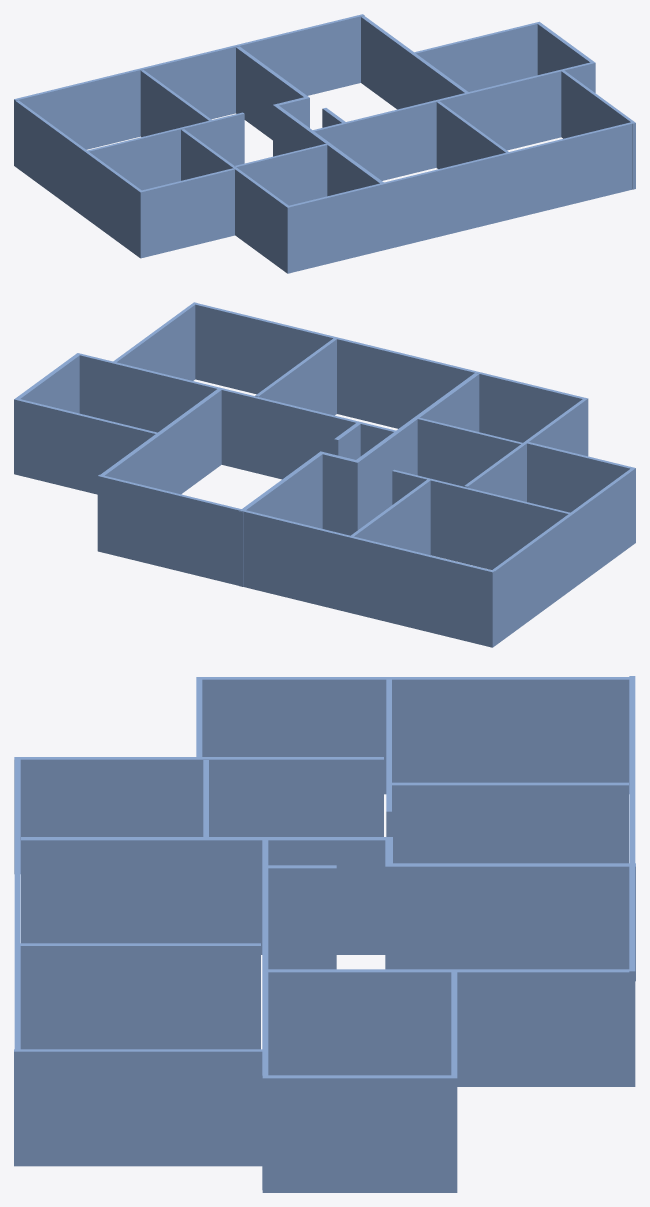
The model's file is Paredes2dopiso.fbx.
3 views of the same model, one above another, from view 1: azimuth 30°, elevation 25°; view 2: azimuth 150°, elevation 25°; view 3: azimuth 270°, elevation 25° (orthographic). The views are drawn at different scales.
Visible parts, largest first — view 1: Cube.045, Cube.032, Cube.034, Cube.035, Cube.042, Cube.044, Cube.040, Cube.029, Cube.030, Cube.038, Cube.041, Cube.039 (+6 smaller); view 2: Cube.032, Cube.045, Cube.034, Cube.035, Cube.044, Cube.029, Cube.030, Cube.042, Cube.038, Cube.040, Cube.041, Cube.031 (+7 smaller); view 3: Cube.035, Cube.030, Cube.039, Cube.040, Cube.033, Cube.041, Cube.028, Cube.026, Cube.043, Cube.031, Cube.050, Cube.032 (+5 smaller).
Part boxes in pixels (bbox=[...]): Cube.045: bbox=[289, 122, 632, 272]; Cube.032: bbox=[14, 14, 364, 166]; Cube.034: bbox=[313, 62, 592, 180]; Cube.035: bbox=[15, 100, 143, 258]; Cube.042: bbox=[142, 168, 234, 257]; Cube.044: bbox=[87, 112, 244, 190]; Cube.040: bbox=[181, 129, 290, 273]; Cube.029: bbox=[414, 22, 537, 91]; Cube.030: bbox=[361, 16, 468, 109]; Cube.038: bbox=[235, 144, 327, 205]; Cube.041: bbox=[236, 46, 309, 140]; Cube.039: bbox=[561, 70, 635, 189]; Cube.032: bbox=[97, 474, 494, 647]; Cube.045: bbox=[195, 303, 584, 442]; Cube.034: bbox=[79, 353, 395, 479]; Cube.035: bbox=[492, 467, 635, 646]; Cube.044: bbox=[392, 469, 569, 569]; Cube.029: bbox=[17, 399, 157, 494]; Cube.030: bbox=[101, 389, 221, 494]; Cube.042: bbox=[527, 442, 632, 512]; Cube.038: bbox=[417, 417, 522, 486]; Cube.040: bbox=[464, 397, 588, 501]; Cube.041: bbox=[239, 452, 323, 586]; Cube.031: bbox=[356, 416, 420, 528]; Cube.035: bbox=[196, 677, 629, 794]; Cube.030: bbox=[268, 969, 629, 1086]; Cube.039: bbox=[14, 1049, 262, 1166]; Cube.040: bbox=[14, 757, 383, 873]; Cube.033: bbox=[20, 943, 260, 1049]; Cube.041: bbox=[393, 863, 635, 981]; Cube.028: bbox=[262, 1075, 457, 1192]; Cube.026: bbox=[21, 837, 203, 943]; Cube.043: bbox=[391, 782, 628, 863]; Cube.031: bbox=[200, 837, 385, 954]; Cube.050: bbox=[263, 865, 336, 969]; Cube.032: bbox=[629, 676, 635, 1086].
Bounding box in the file's own units: 7851 × 1059 × 5143.
